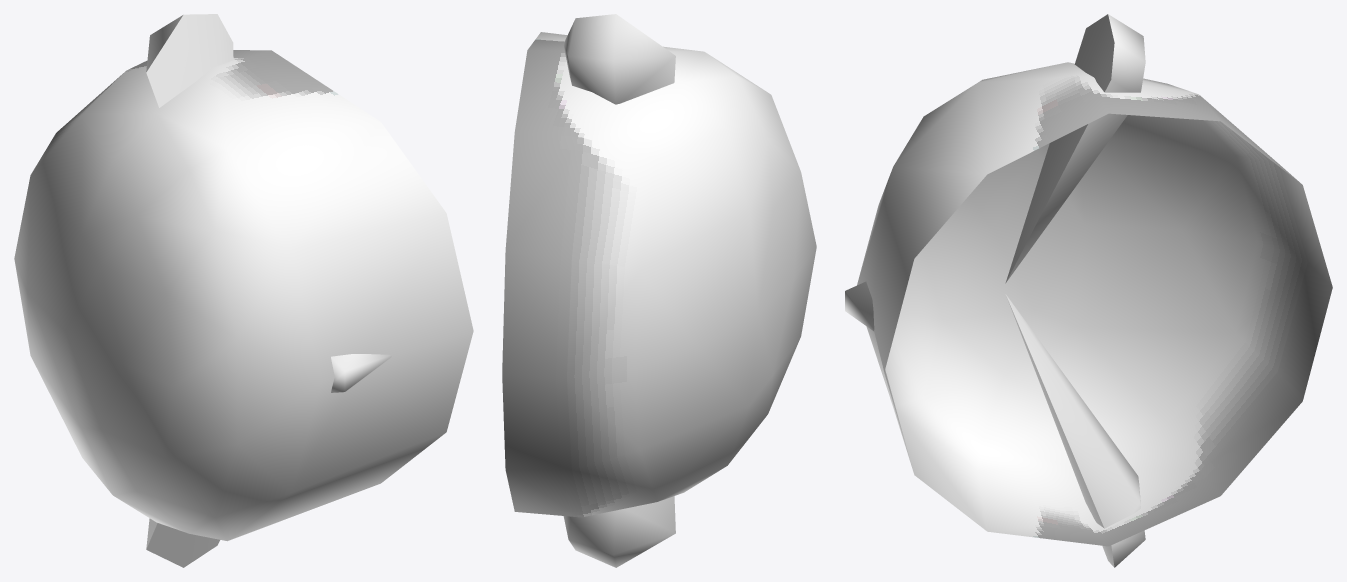
File: boy13b.dae
3 views of the same model, side by side, from view 1: azimuth 30°, elevation 25°; view 2: azimuth 150°, elevation 25°; view 3: azimuth 270°, elevation 25° (orthographic).
Parts seen in each view (by area): view 1: boy13b; view 2: boy13b; view 3: boy13b.
Boxes of the visible parts, <box> form: boy13b: <box>14,14,473,567</box>; boy13b: <box>502,14,816,567</box>; boy13b: <box>845,14,1332,567</box>.
Bounding box in the file's own units: 15.5 × 26.71 × 21.59.
Materials: 3 (1 with a texture image).
